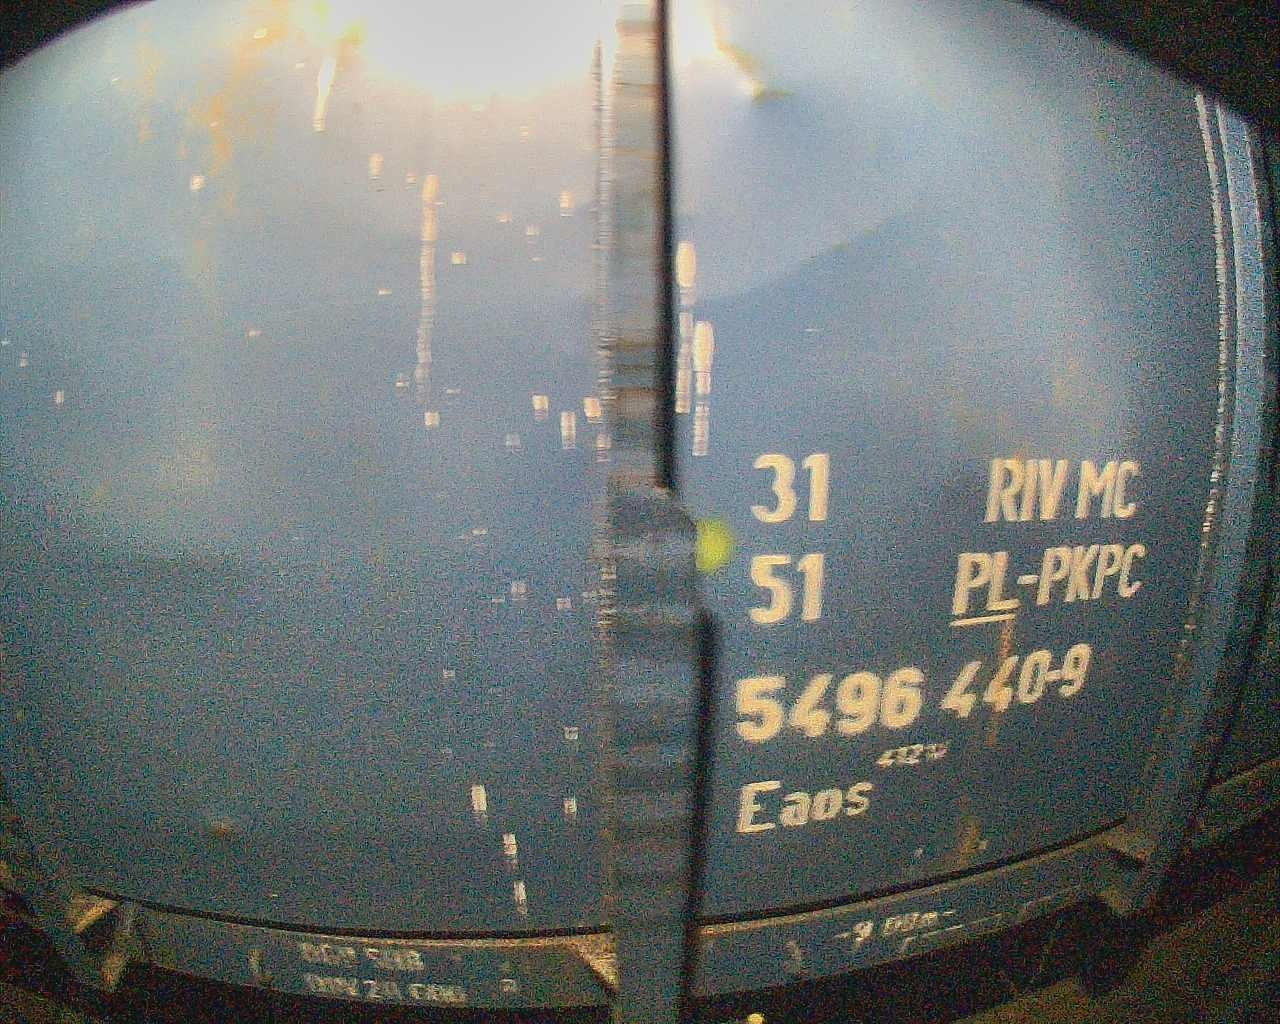UIC: (734, 453, 1150, 838)
